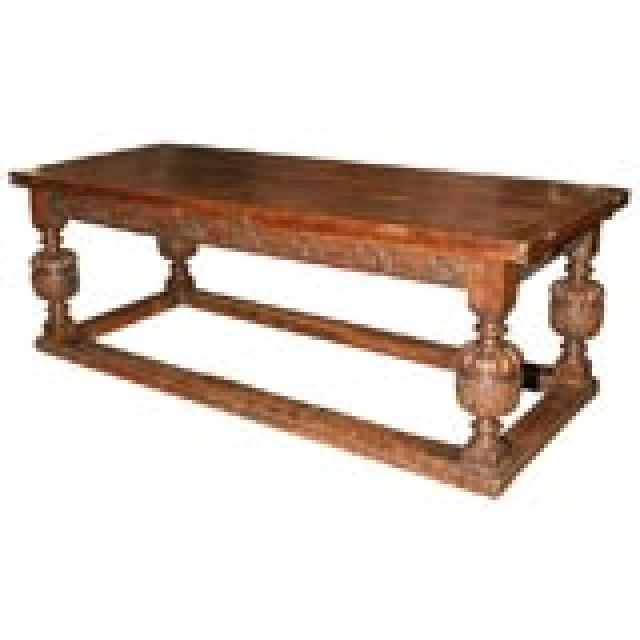table: (7, 140, 629, 500)
